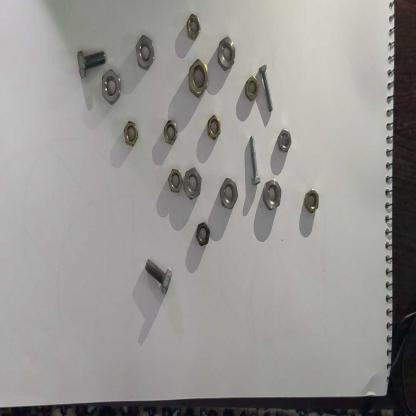Bolts: (142, 253, 179, 300), (77, 47, 110, 80), (257, 63, 277, 116), (247, 130, 261, 192)
NUTS: (131, 30, 158, 78), (99, 67, 122, 108), (187, 58, 210, 96), (215, 33, 235, 74), (180, 167, 204, 201), (192, 216, 214, 252), (218, 176, 239, 213), (261, 178, 283, 210), (243, 73, 261, 106), (123, 118, 141, 147), (162, 119, 181, 146), (276, 127, 294, 154), (207, 111, 222, 143), (304, 188, 322, 214), (185, 12, 201, 41), (166, 168, 184, 193)
